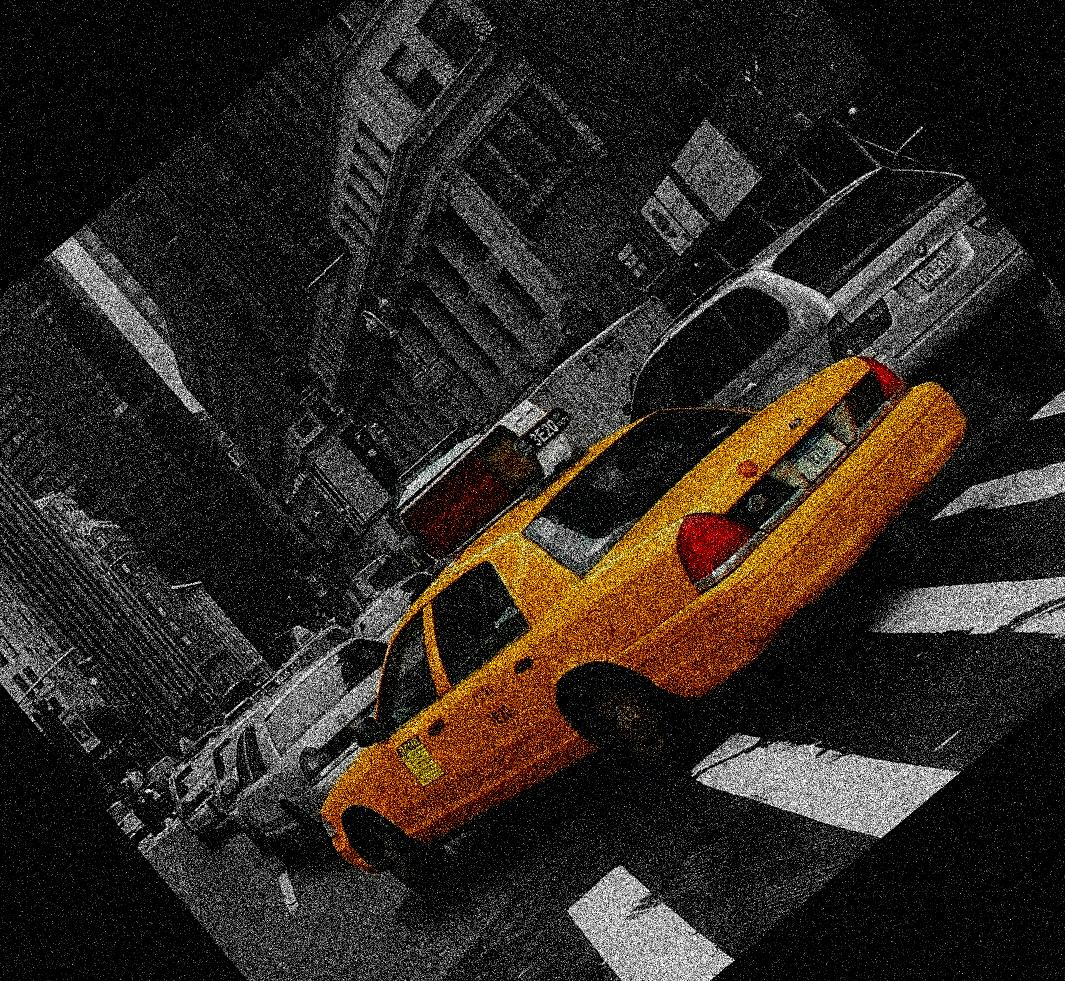taxi: (320, 338, 964, 905)
